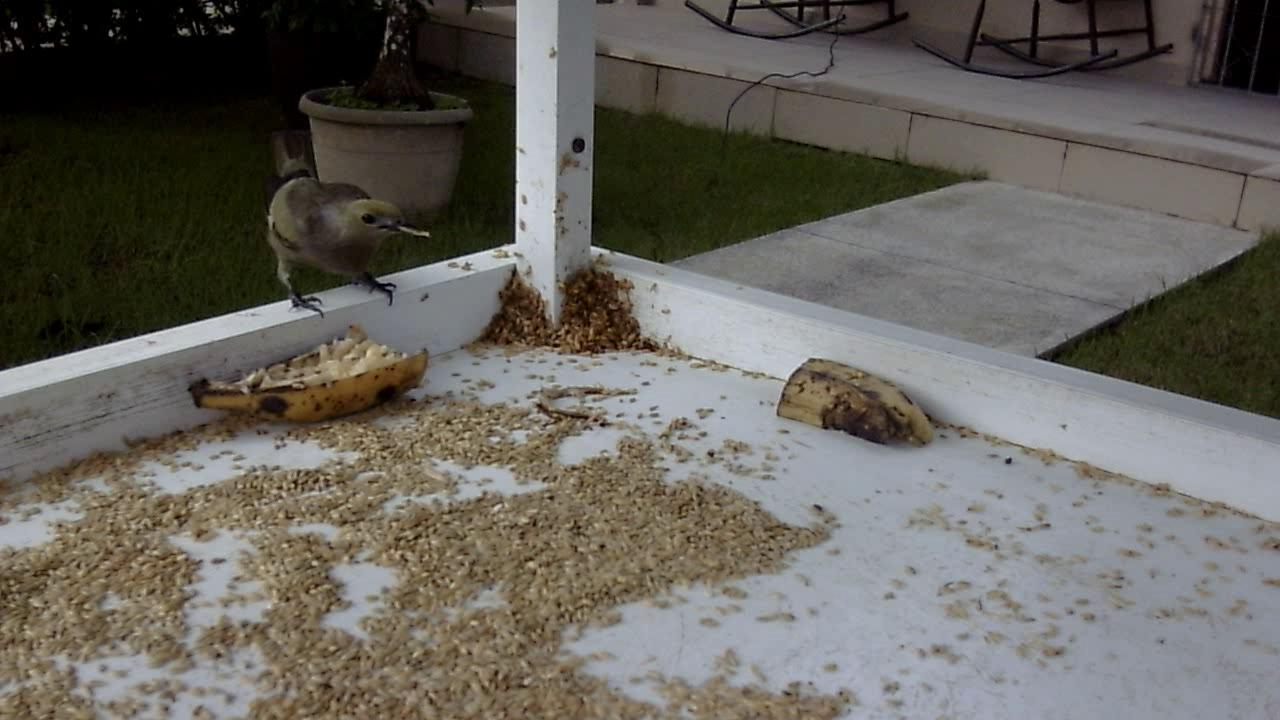sanhaco_do_coqueiro: (258, 162, 433, 321)
